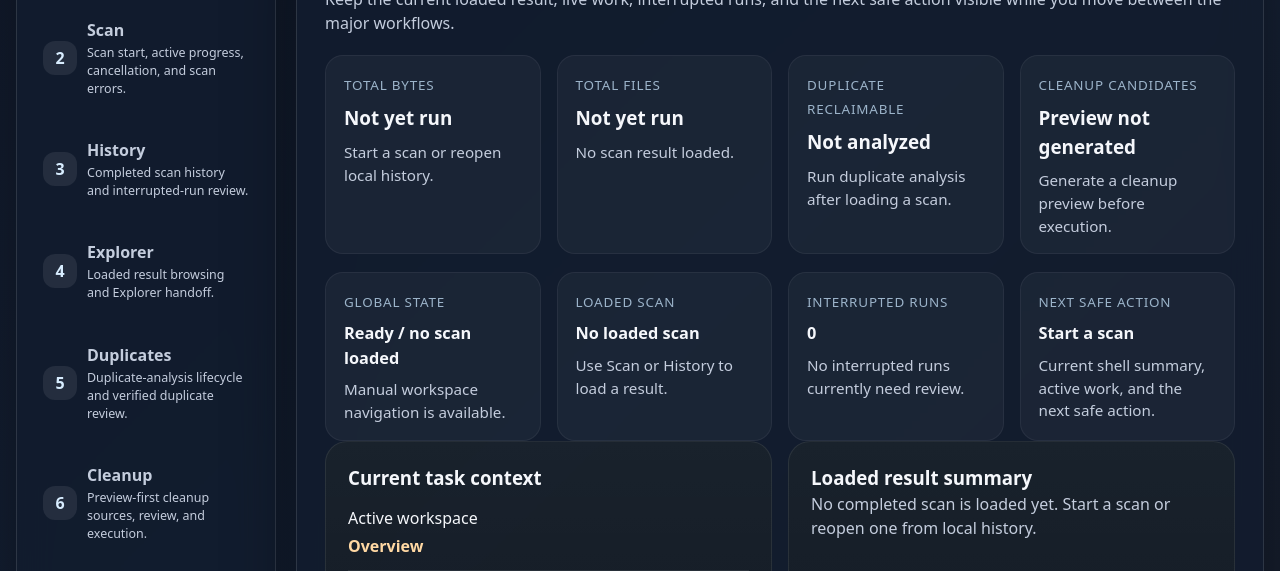
Test: Space Sift cleanup workflow › requires a fresh scan before cleanup preview when file-entry data is missing
The image size is (1280, 571).
(page scrolled)
What coordinates should you click on to do the following:
click the tab "Cleanup"
I would click on:
 (146, 503)
Its box is [31,450,261,555].
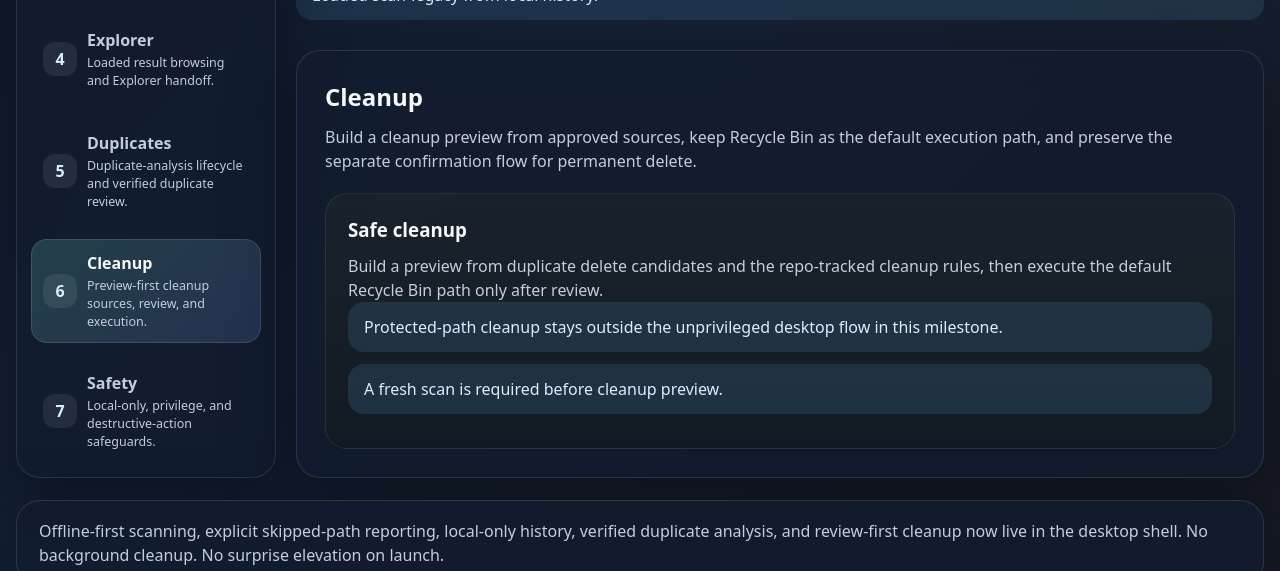
expect the text "A fresh scan is required before cleanup preview." is shown: met, box [348,364,1212,414]
